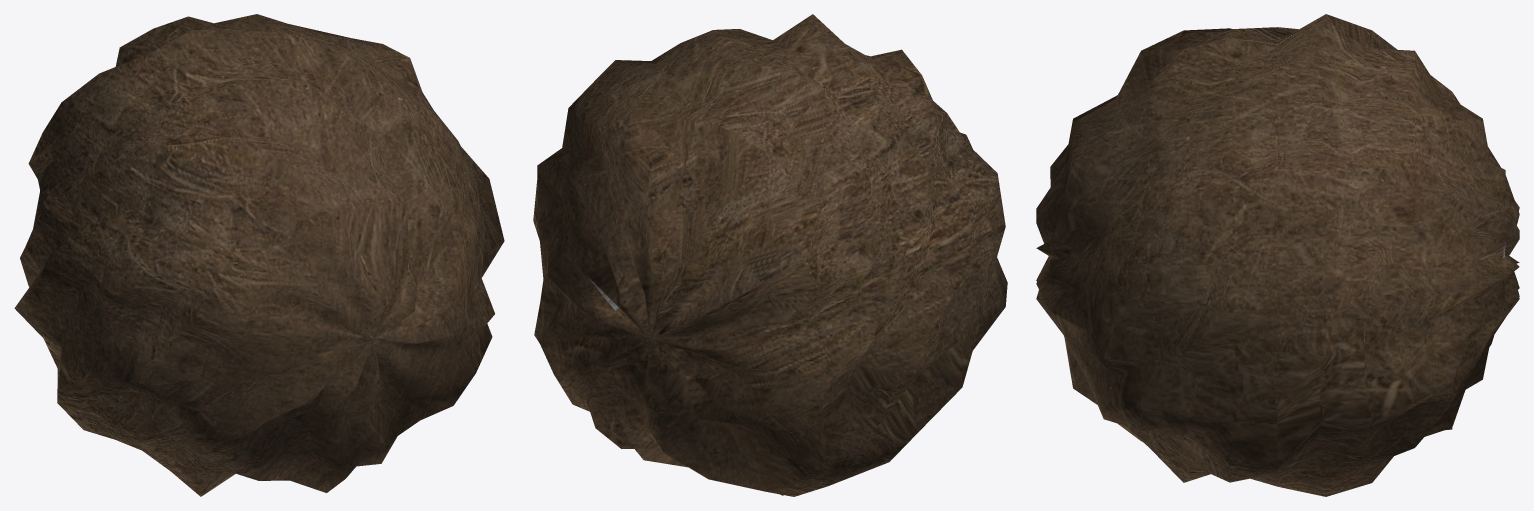
Rendered from Tumbleweed_1.fbx.
3 renders of one model, left to right at view 1: azimuth 30°, elevation 25°; view 2: azimuth 150°, elevation 25°; view 3: azimuth 270°, elevation 25°, orthographic.
Visible parts, largest first — view 1: Tumbleweed_1; view 2: Tumbleweed_1; view 3: Tumbleweed_1.
Part boxes in pixels (box(x1,y1,x2,y2)): Tumbleweed_1: box(14, 14, 504, 496); Tumbleweed_1: box(533, 14, 1007, 496); Tumbleweed_1: box(1036, 14, 1519, 496).
Size of the model in its own units: 0.8133 by 0.7976 by 0.8133.
1 material, 1 textured.
